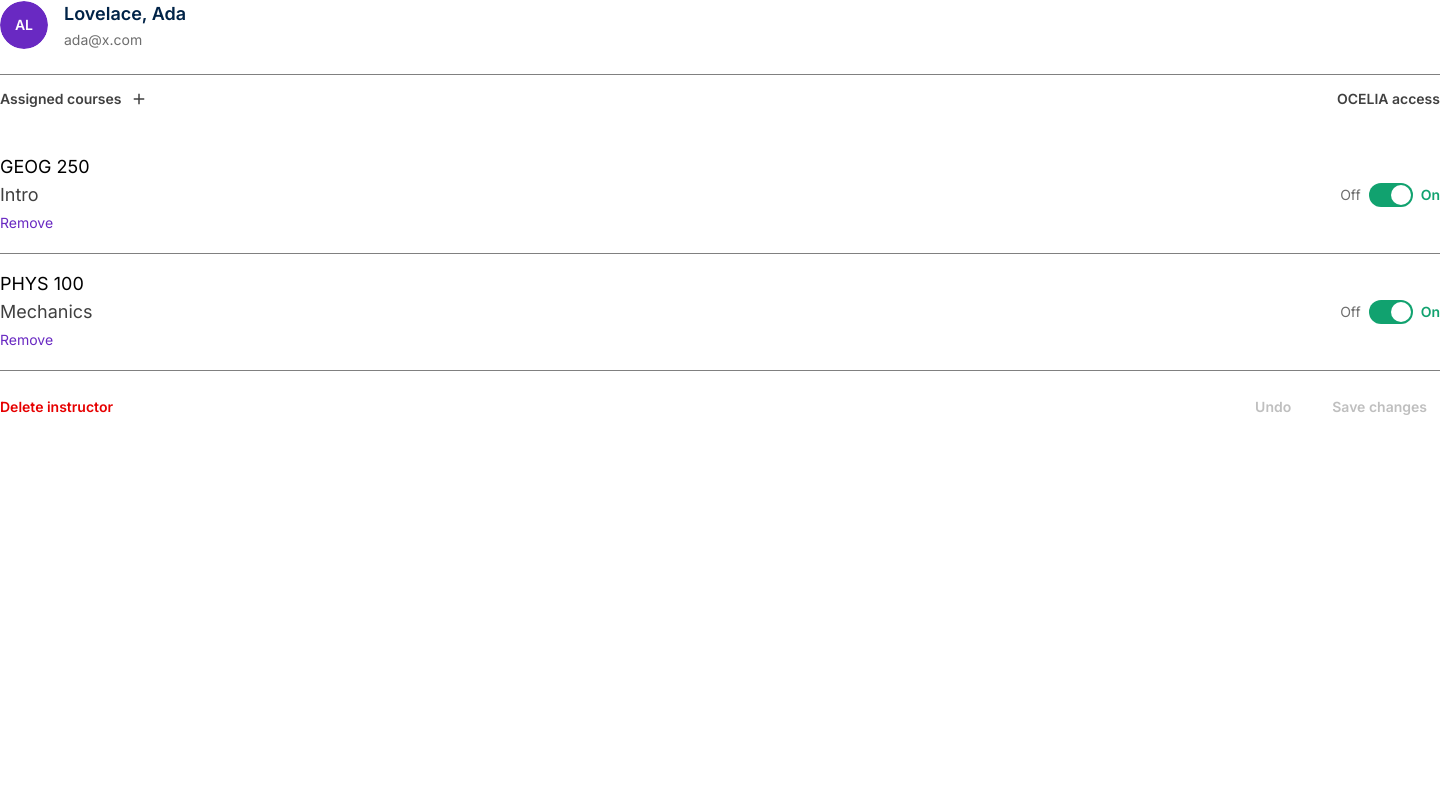
it: InstructorDetail (staged editing) › tells the picker when every course is already assigned
The image size is (1440, 810).
Click the button named "Assign course".
click(140, 99)  # box [126,85,154,113]
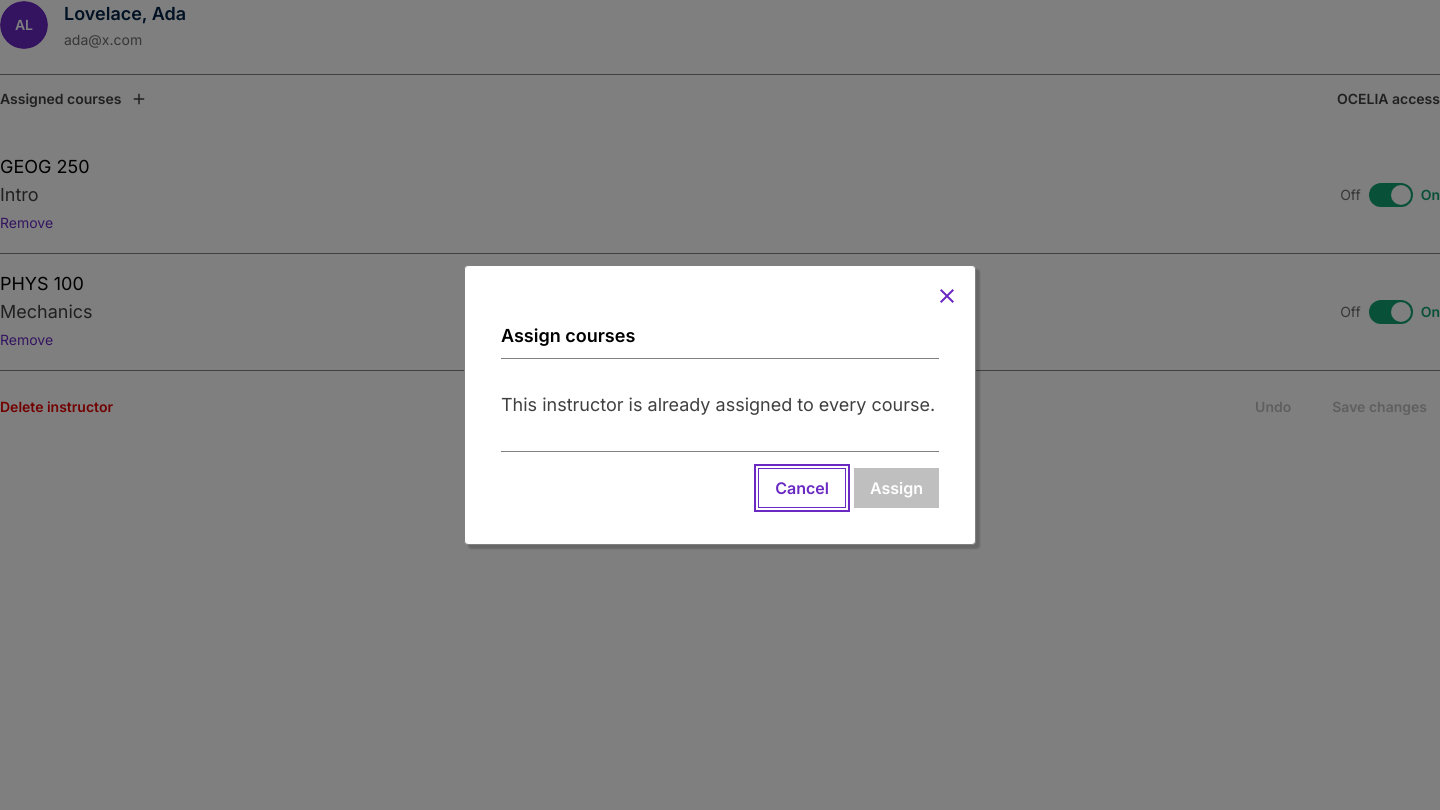
Now the text "This instructor is already assigned to every course." is shown, box [501,391,939,419]
